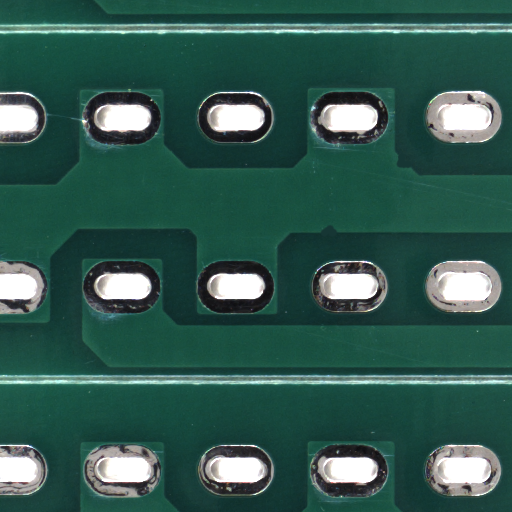Mouse_bite: (404, 161, 421, 175), (329, 229, 346, 240)
